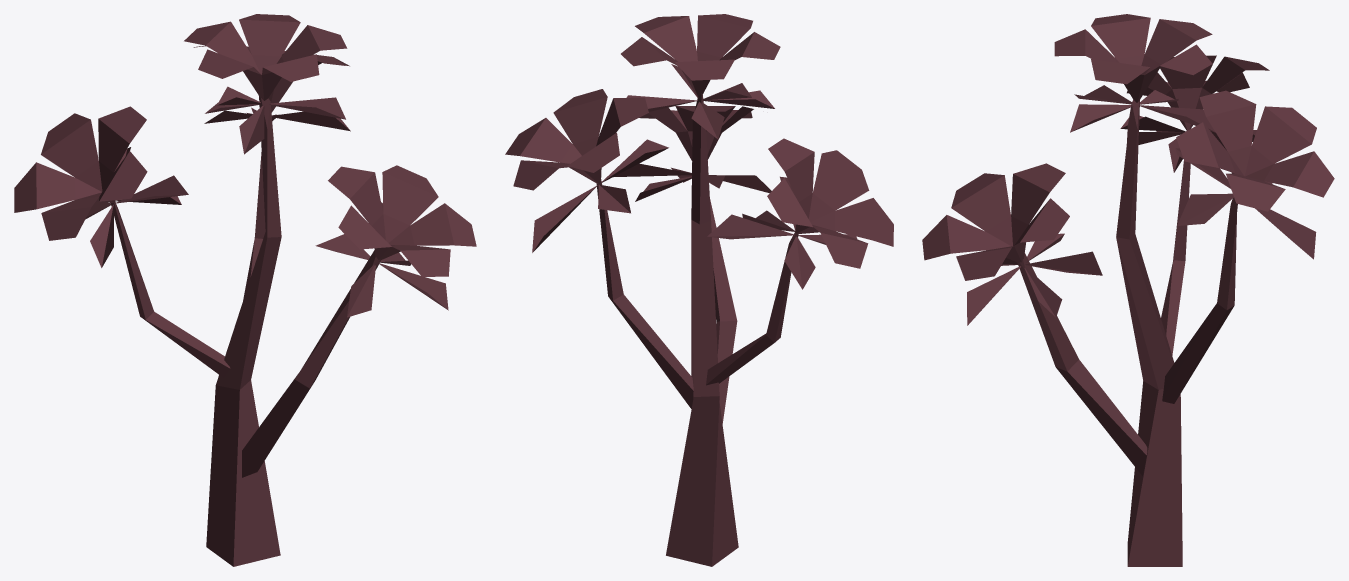
File: flower-poisonous.fbx
3 views of the same model, side by side, from view 1: azimuth 30°, elevation 25°; view 2: azimuth 150°, elevation 25°; view 3: azimuth 270°, elevation 25° (orthographic). The views are drawn at different scales.
Parts seen in each view (by area): view 1: flower-poisonous; view 2: flower-poisonous; view 3: flower-poisonous.
Part boxes in pixels (x1=…): flower-poisonous: x1=14, y1=14, x2=476, y2=566; flower-poisonous: x1=505, y1=14, x2=893, y2=566; flower-poisonous: x1=922, y1=14, x2=1334, y2=566.
Bounding box in the file's own units: 0.691 × 0.9838 × 0.7089.
